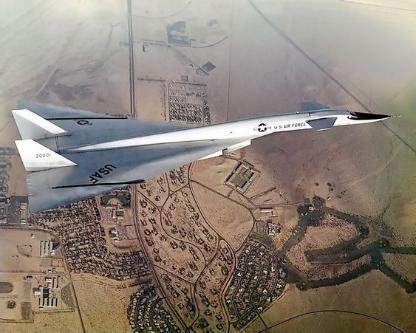U2: (11, 98, 402, 213)
